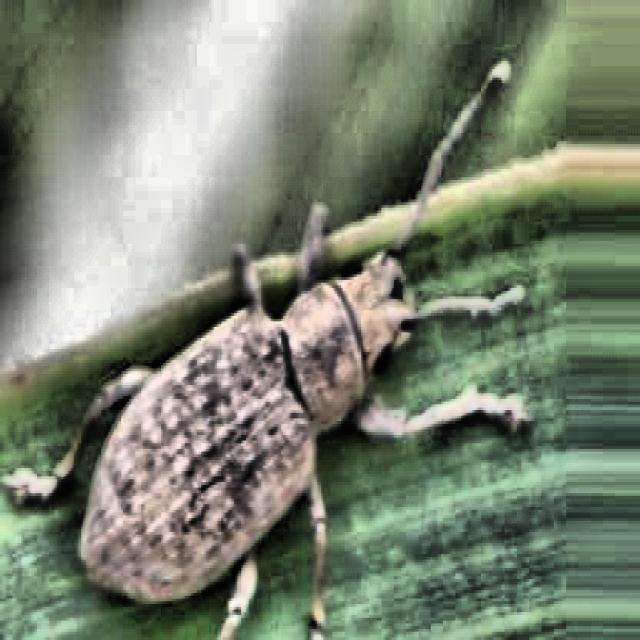Stink bug: (36, 146, 506, 640)
